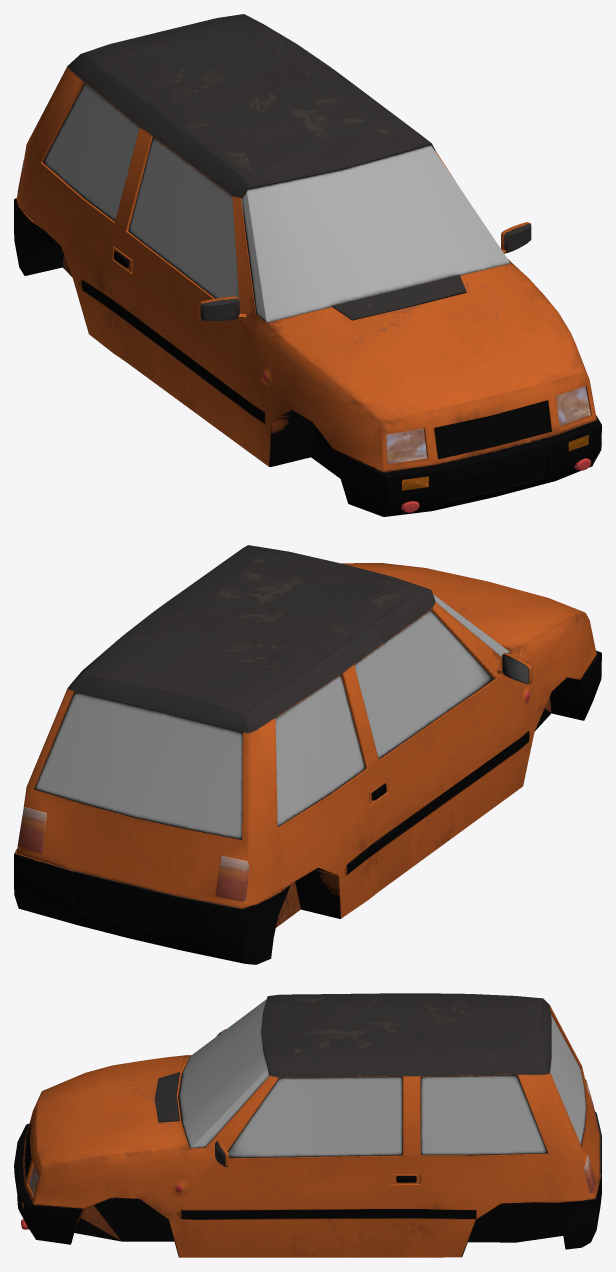
The model's file is G_LP_CarST-01.FBX.
3 renders of one model, top to bottom at view 1: azimuth 30°, elevation 25°; view 2: azimuth 150°, elevation 25°; view 3: azimuth 270°, elevation 25°, orthographic. The views are drawn at different scales.
Parts seen in each view (by area): view 1: Car; view 2: Car; view 3: Car.
Boxes of the visible parts, x1,y1,x2,y2 form: Car: [14, 14, 601, 516]; Car: [14, 545, 601, 964]; Car: [14, 993, 601, 1257].
Bounding box in the file's own units: 108 × 73.84 × 213.
Materials: 1 (1 with a texture image).
